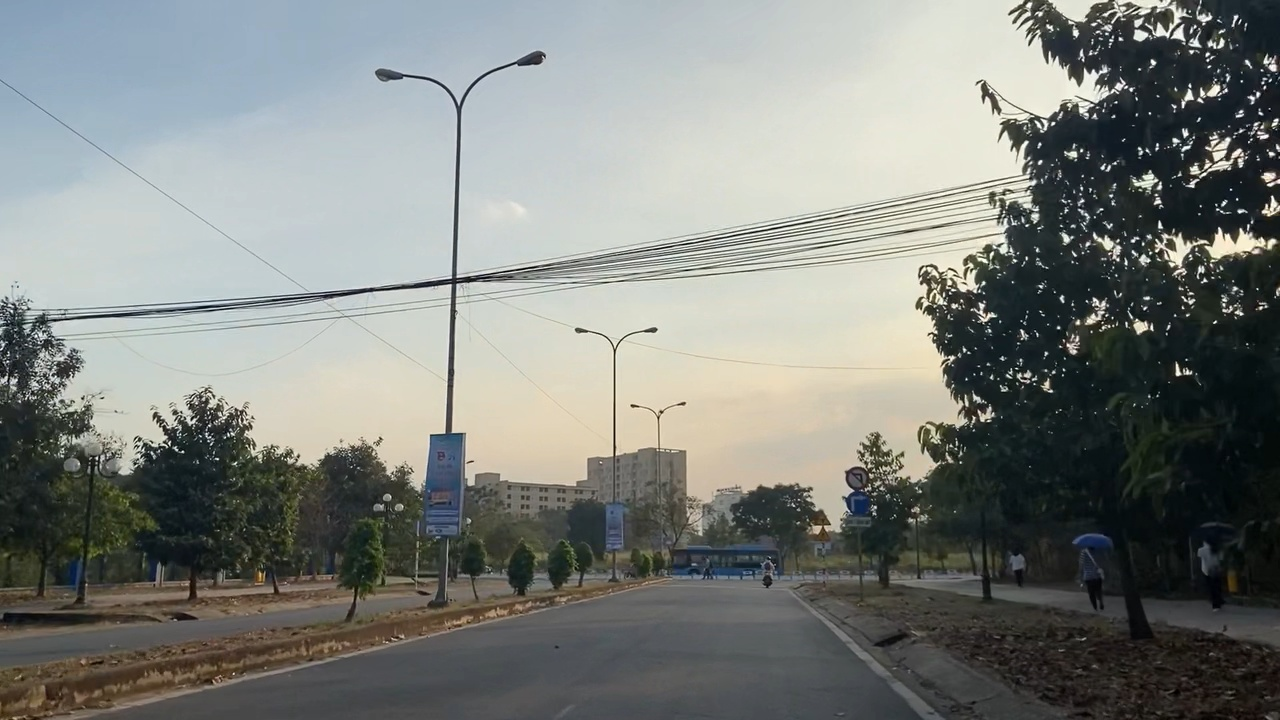cam_re_trai: (845, 465, 869, 491)
chi_re_phai: (845, 491, 870, 515)
